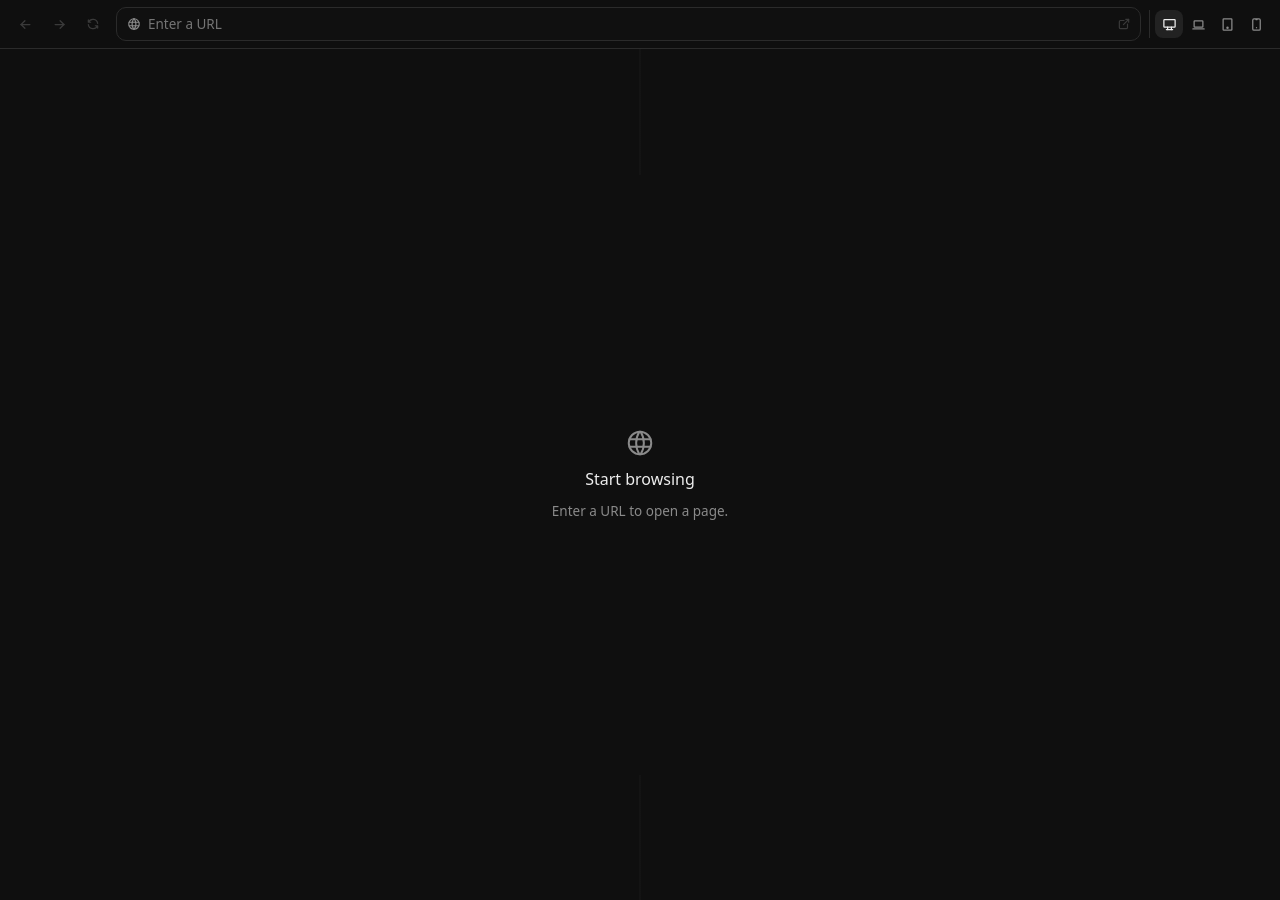
Test: WorkspaceBrowser › loads an address entered before the guest has finished starting
Type "127.0.0.1:5173/" into the field named "Browser address" at (626, 24), box [148,14,1103,34]
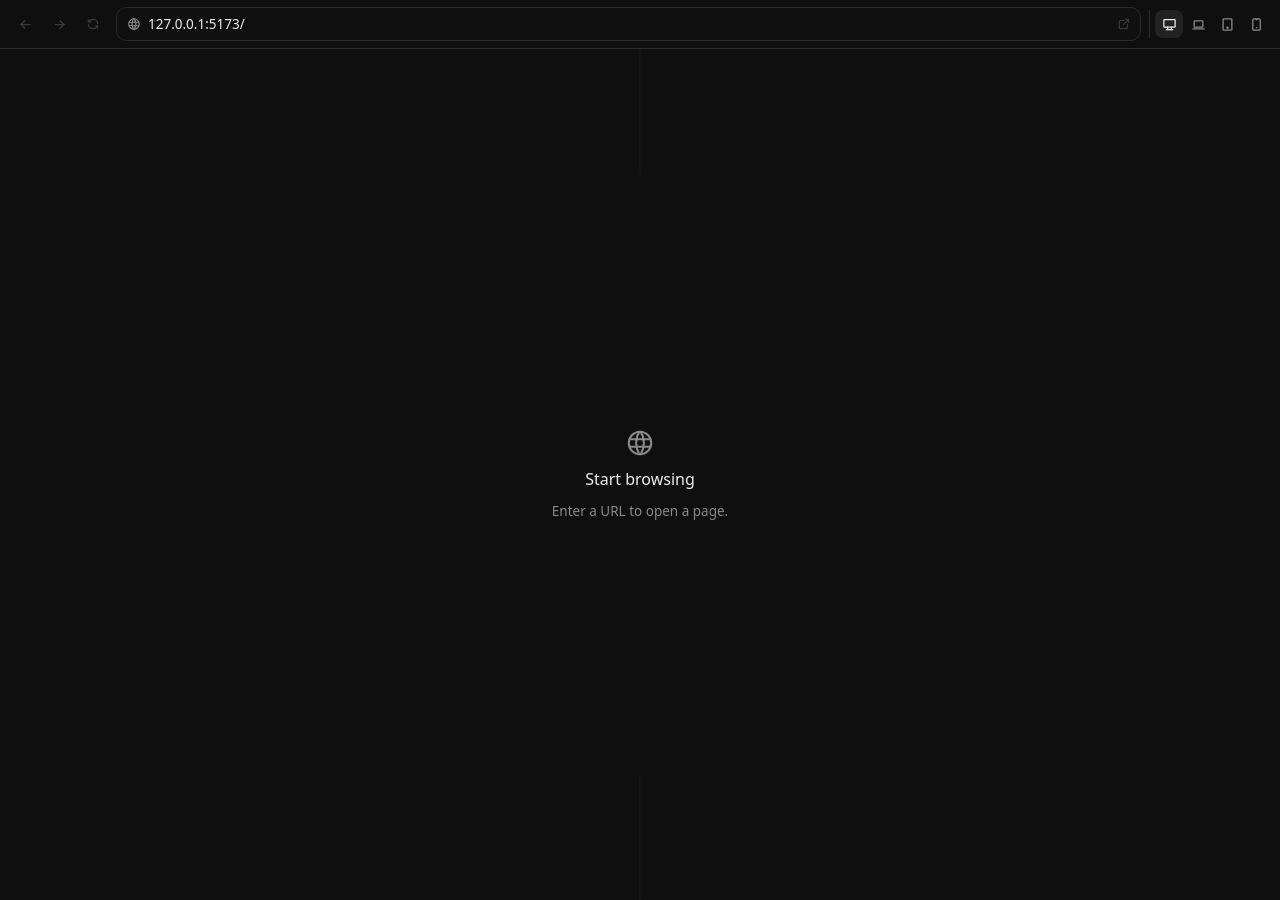
Submit the form named "Browser address", box [116,7,1141,41]
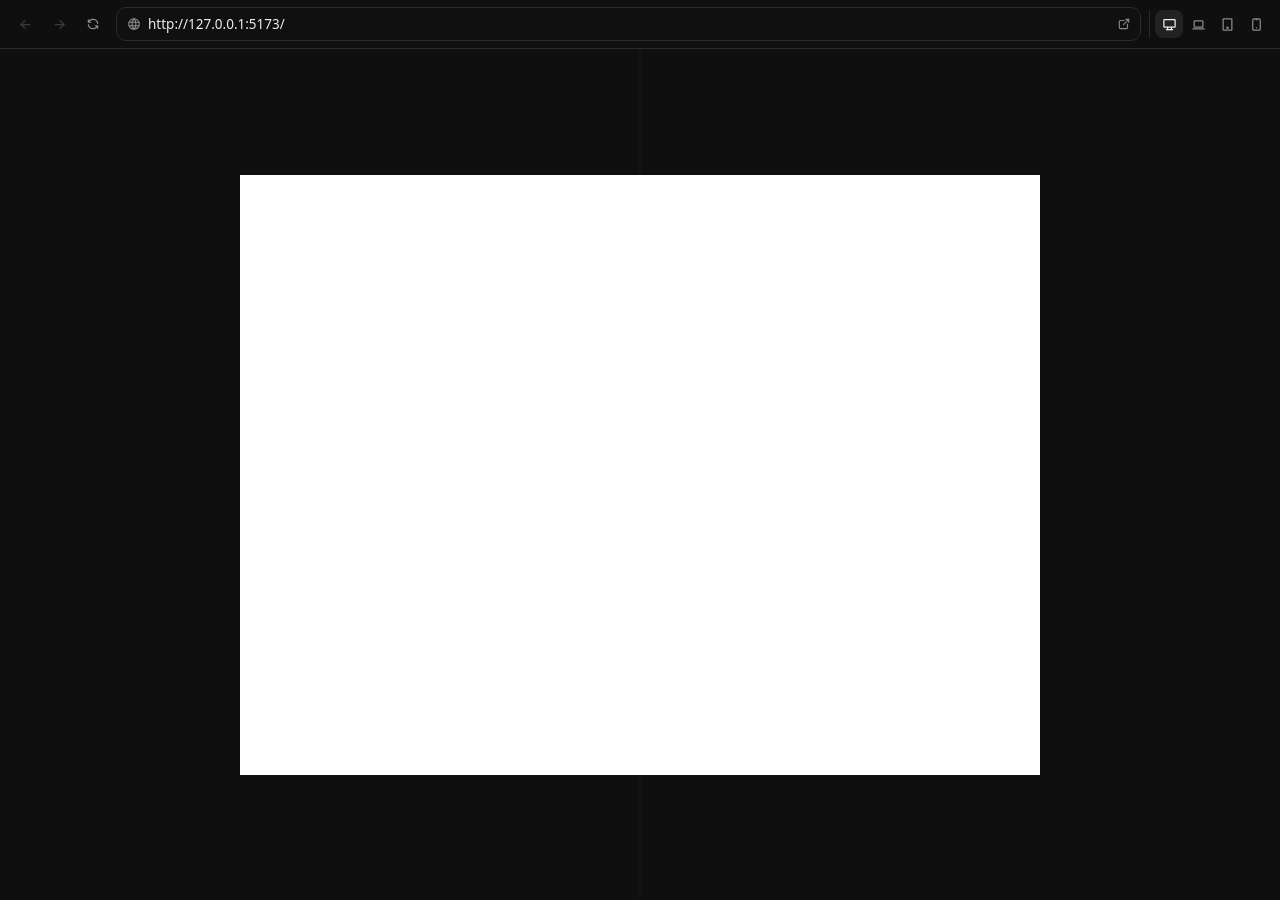
Result: the field named "Browser address" holds "http://127.0.0.1:5173/" at [148,14,1103,34]
